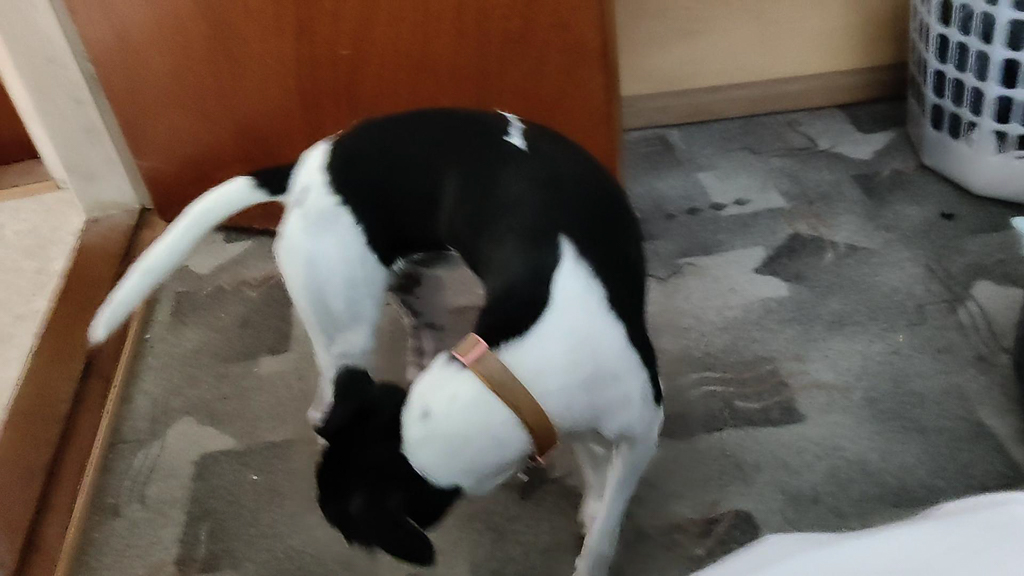Dog: (58, 79, 686, 576)
